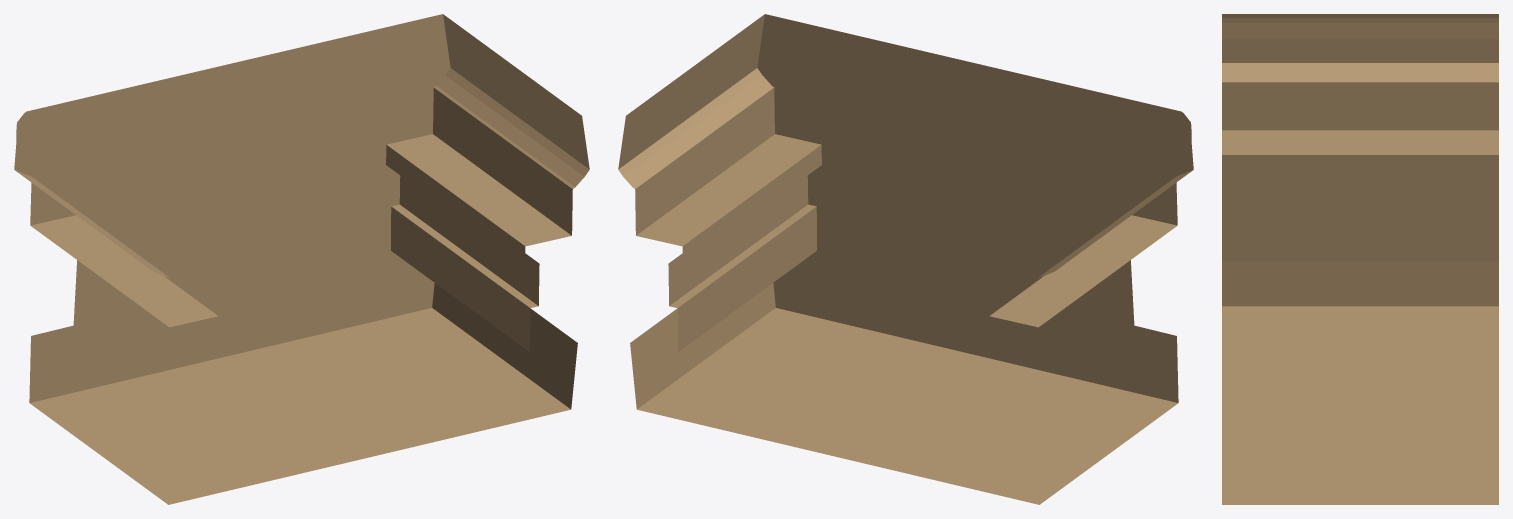
3 views of the same model, side by side, from view 1: azimuth 30°, elevation 25°; view 2: azimuth 150°, elevation 25°; view 3: azimuth 270°, elevation 25° (orthographic).
Visible parts, largest first — view 1: 0_0_3_1_2_3_0_1; view 2: 0_0_3_1_2_3_0_1; view 3: 0_0_3_1_2_3_0_1.
Part boxes in pixels (x1,y1,x2,y2): 0_0_3_1_2_3_0_1: [14, 14, 589, 504]; 0_0_3_1_2_3_0_1: [618, 14, 1193, 504]; 0_0_3_1_2_3_0_1: [1222, 14, 1498, 504].
Size of the model in its own units: 54.35 by 35.13 by 30.
